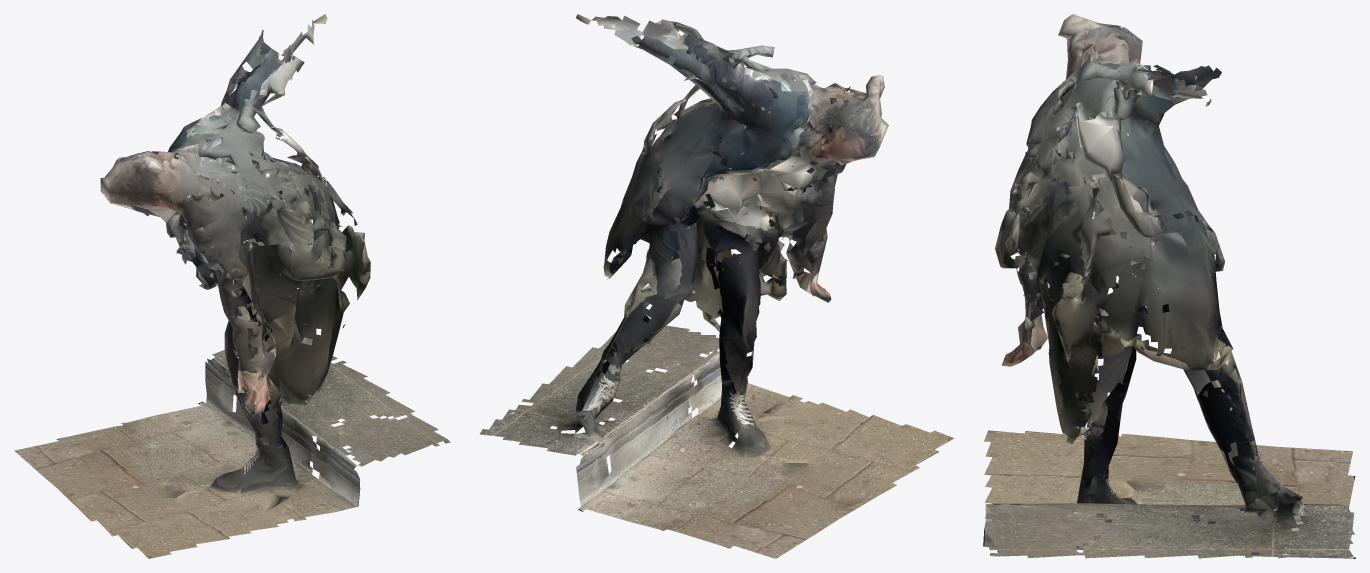
File: S007_PigEars.glb
The picture shows the model from 3 angles, left to right: view 1: azimuth 30°, elevation 25°; view 2: azimuth 150°, elevation 25°; view 3: azimuth 270°, elevation 25°; orthographic projection. The views are drawn at different scales.
Parts seen in each view (by area): view 1: S007_RETOPO; view 2: S007_RETOPO; view 3: S007_RETOPO.
Boxes of the visible parts, x1=… form: S007_RETOPO: x1=14, y1=14, x2=450, y2=558; S007_RETOPO: x1=480, y1=14, x2=954, y2=558; S007_RETOPO: x1=983, y1=14, x2=1355, y2=558.
Bounding box in the file's own units: 4.53 × 5.86 × 3.97.
Materials: 1 (1 with a texture image).
